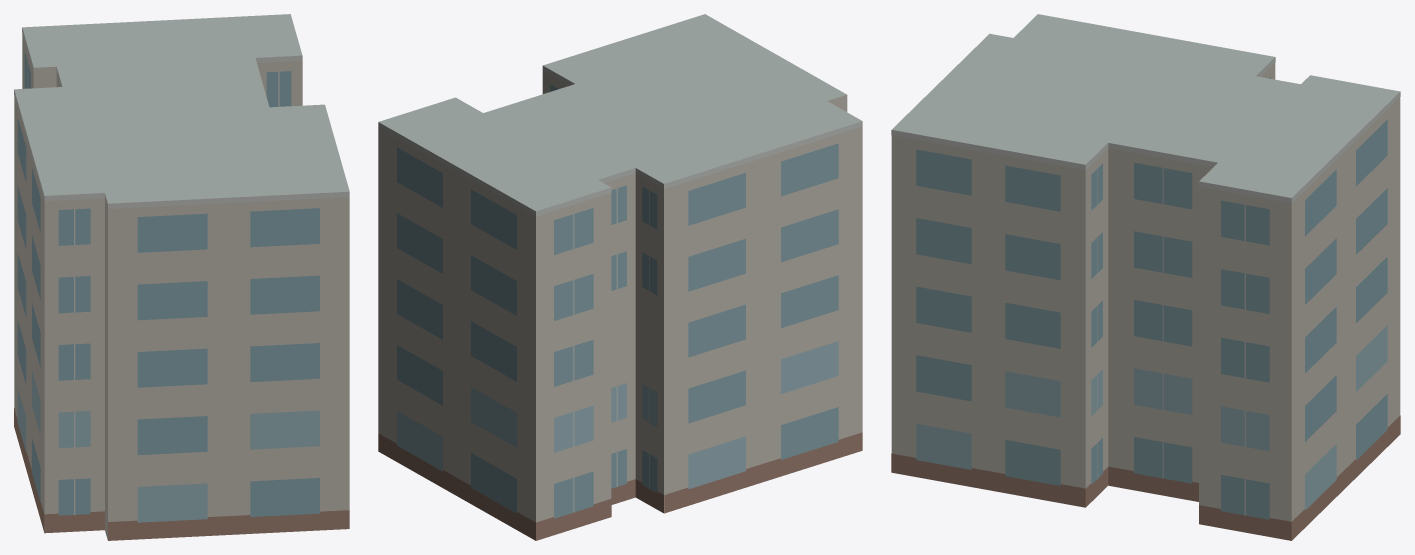
Rendered from survey-upis-32611425.glb.
The picture shows the model from 3 angles, left to right: view 1: azimuth 30°, elevation 25°; view 2: azimuth 150°, elevation 25°; view 3: azimuth 270°, elevation 25°; orthographic projection. The views are drawn at different scales.
Parts seen in each view (by area): view 1: survey-upis-32611425.tmp; view 2: survey-upis-32611425.tmp; view 3: survey-upis-32611425.tmp.
Part boxes in pixels (x1=…): survey-upis-32611425.tmp: x1=14, y1=14, x2=349, y2=540; survey-upis-32611425.tmp: x1=378, y1=14, x2=862, y2=540; survey-upis-32611425.tmp: x1=891, y1=14, x2=1400, y2=540.
Bounding box in the file's own units: 17.63 × 15.3 × 20.59.
